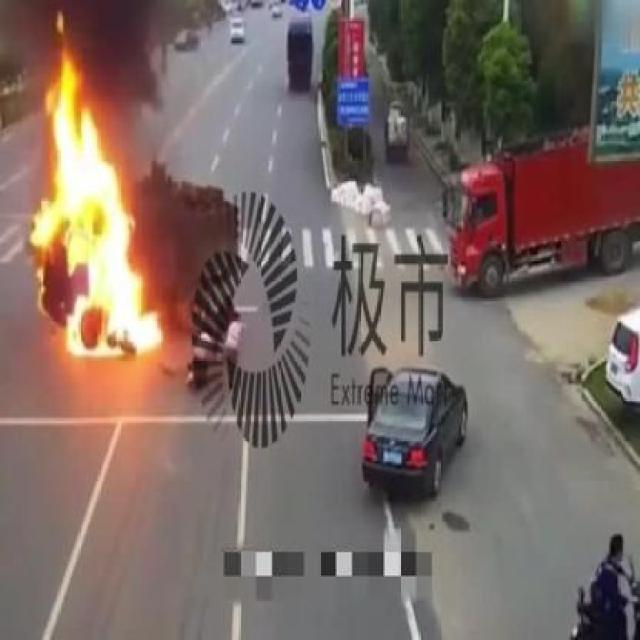Fire: (22, 16, 164, 360)
